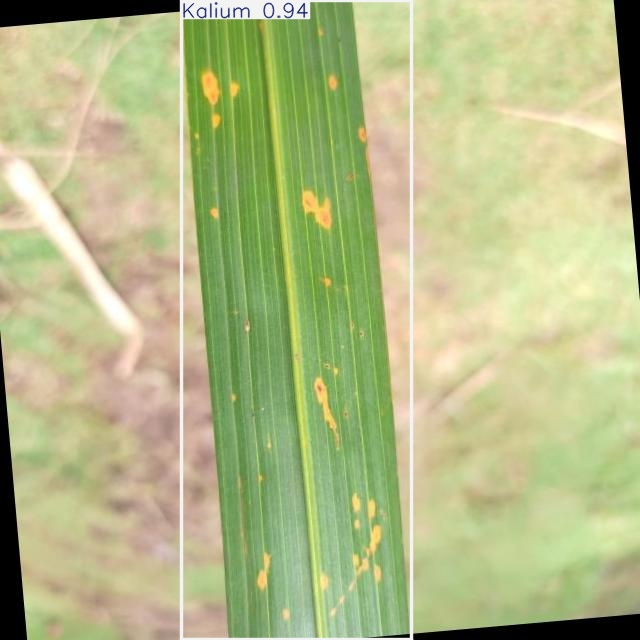Kalium: (182, 0, 411, 640)
